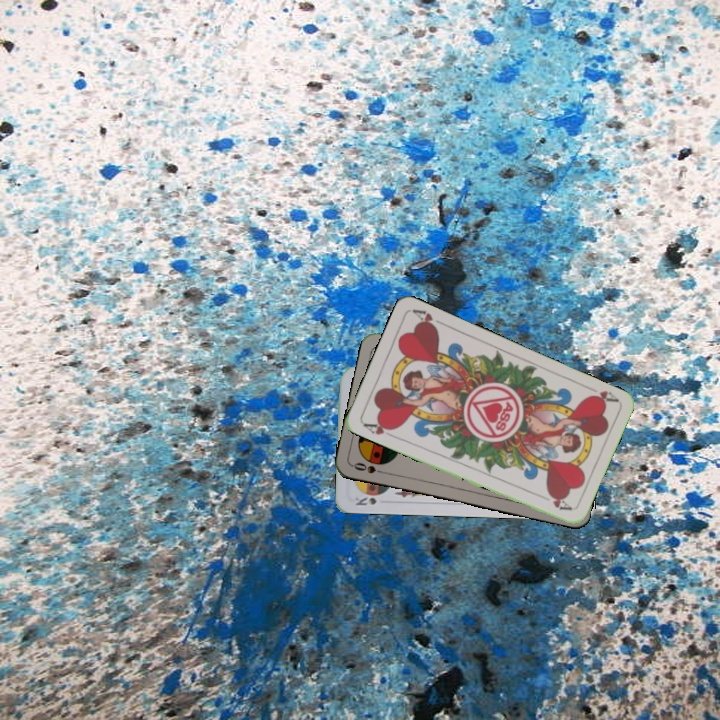HA: (582, 382, 620, 407), (359, 417, 399, 440)
SK: (351, 493, 379, 508)
SO: (349, 458, 390, 477)
